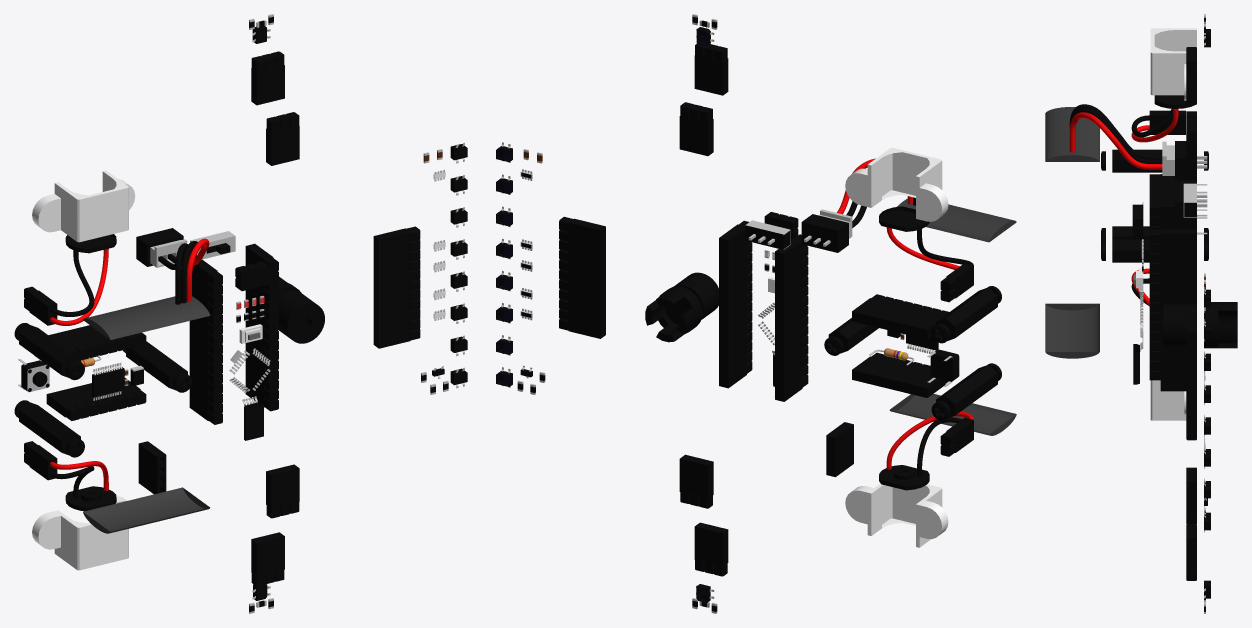
File: Plastic01.obj
The picture shows the model from 3 angles, left to right: view 1: azimuth 30°, elevation 25°; view 2: azimuth 150°, elevation 25°; view 3: azimuth 270°, elevation 25°; orthographic projection.
Parts seen in each view (by area): view 1: motors_plastic, battery, screws, base_nano, header_nano, base_IR, devices_IR, devices_nano, base_HRL, base_HRL_V2, header_driver, buzzer (+12 smaller); view 2: motors_plastic, base_nano, screws, base_driver, base_IR, battery, devices_IR, base_HRL_V2, base_HRL, SW_PWR, front_caster, header_nano (+13 smaller); view 3: battery, base_nano, motors_plastic, screws, header_nano, front_caster, SW_PWR, header_IR, devices_nano, devices_IR, buzzer, cable_R (+14 smaller).
Part boxes in pixels (bbox=[...]): motors_plastic: bbox=[32, 170, 135, 570]; battery: bbox=[83, 296, 210, 533]; screws: bbox=[14, 323, 192, 457]; base_nano: bbox=[189, 243, 273, 420]; header_nano: bbox=[208, 257, 278, 424]; base_IR: bbox=[373, 228, 410, 348]; devices_IR: bbox=[421, 142, 467, 394]; devices_nano: bbox=[229, 261, 270, 440]; base_HRL: bbox=[266, 125, 299, 508]; base_HRL_V2: bbox=[251, 65, 284, 576]; header_driver: bbox=[65, 332, 146, 420]; buzzer: bbox=[278, 291, 324, 343]; motors_plastic: bbox=[845, 147, 948, 547]; base_nano: bbox=[719, 224, 802, 401]; screws: bbox=[824, 286, 1001, 420]; base_driver: bbox=[852, 298, 945, 397]; base_IR: bbox=[568, 218, 605, 338]; battery: bbox=[889, 198, 1016, 435]; devices_IR: bbox=[496, 142, 545, 394]; base_HRL_V2: bbox=[694, 55, 728, 566]; base_HRL: bbox=[679, 116, 713, 498]; SW_PWR: bbox=[745, 214, 848, 252]; front_caster: bbox=[645, 286, 702, 342]; header_nano: bbox=[739, 220, 808, 387]; battery: bbox=[1045, 107, 1099, 358]; base_nano: bbox=[1160, 202, 1196, 380]; motors_plastic: bbox=[1150, 28, 1196, 420]; screws: bbox=[1101, 149, 1208, 262]; header_nano: bbox=[1149, 202, 1160, 380]; front_caster: bbox=[1204, 302, 1237, 348]; SW_PWR: bbox=[1175, 141, 1207, 217]; header_IR: bbox=[1186, 328, 1196, 440]; devices_nano: bbox=[1132, 204, 1143, 384]; devices_IR: bbox=[1204, 273, 1210, 532]; buzzer: bbox=[1163, 304, 1196, 346]; cable_R: bbox=[1069, 112, 1162, 169].
Bounding box in the file's own units: 0.1222 × 0.1534 × 0.0455.
